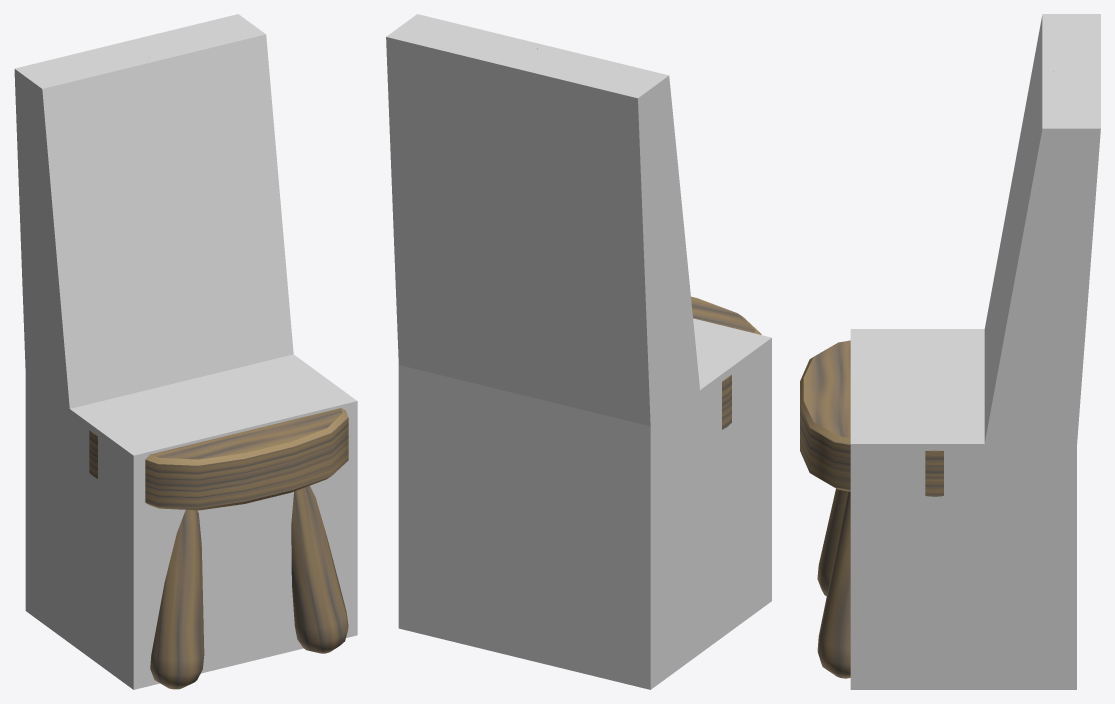
Rendered from TKChair.fbx.
3 renders of one model, left to right at view 1: azimuth 30°, elevation 25°; view 2: azimuth 150°, elevation 25°; view 3: azimuth 270°, elevation 25°, orthographic. The views are drawn at different scales.
Visible parts, largest first — view 1: COL, TKchair; view 2: COL, TKchair; view 3: COL, TKchair.
Part boxes in pixels (box(x1,y1,x2,y2)): COL: box(14, 14, 357, 689); TKchair: box(89, 57, 348, 689); COL: box(386, 14, 771, 689); TKchair: box(537, 48, 761, 429); COL: box(850, 14, 1100, 689); TKchair: box(800, 71, 1053, 678).
Bounding box in the file's own units: 18.67 × 20.57 × 42.77.
1 material, 1 textured.
